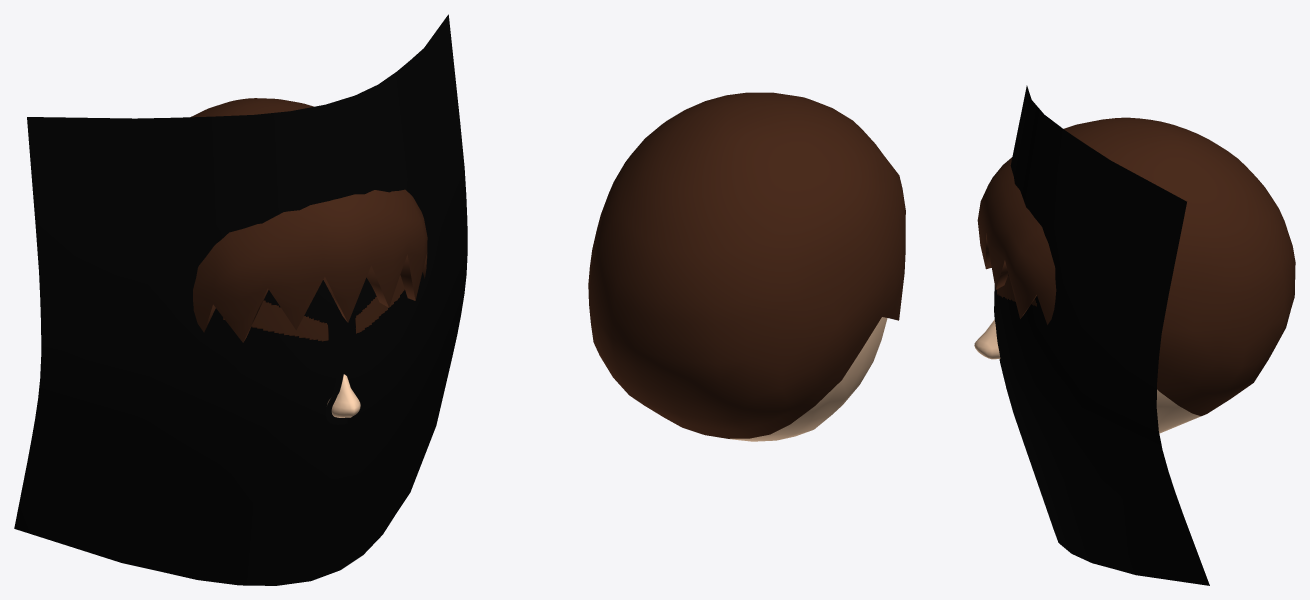
Rendered from test_body.glb.
3 views of the same model, side by side, from view 1: azimuth 30°, elevation 25°; view 2: azimuth 150°, elevation 25°; view 3: azimuth 270°, elevation 25° (orthographic). The views are drawn at different scales.
Parts seen in each view (by area): view 1: XluMask, OpaHair, OpaNose; view 2: OpaHair, OpaFaceline; view 3: XluMask, OpaHair, OpaFaceline, OpaNose.
Part boxes in pixels (<box>): XluMask: <box>14,14,467,585</box>; OpaHair: <box>190,98,427,342</box>; OpaNose: <box>327,374,360,417</box>; OpaHair: <box>588,92,905,438</box>; OpaFaceline: <box>730,317,887,441</box>; XluMask: <box>994,85,1209,585</box>; OpaHair: <box>977,117,1295,416</box>; OpaFaceline: <box>1156,389,1200,433</box>; OpaNose: <box>974,320,1000,359</box>.
Size of the model in its own units: 91.85 by 100 by 65.65.
5 materials, 2 textured.
